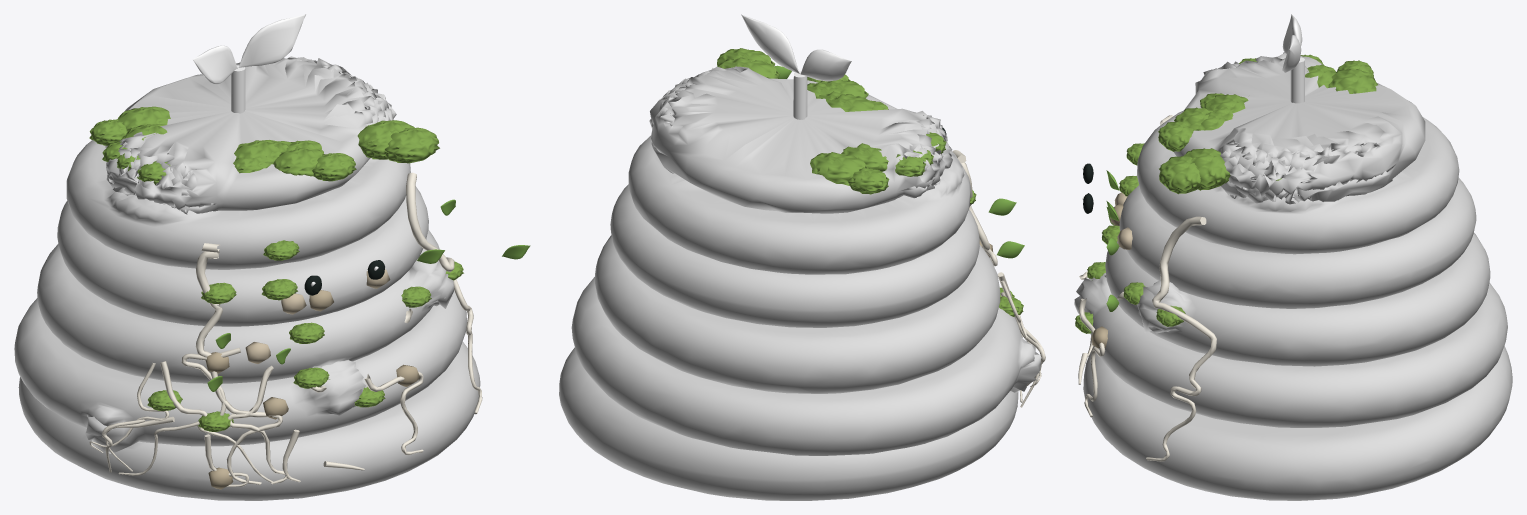
File: tsuchi.glb
The picture shows the model from 3 angles, left to right: view 1: azimuth 30°, elevation 25°; view 2: azimuth 150°, elevation 25°; view 3: azimuth 270°, elevation 25°; orthographic projection.
Visible parts, largest first — view 1: Cylinder.005, Cylinder.001, Cylinder, Cylinder.002, Cylinder.004, Cylinder.003, c.003, Sphere.015, c.011, Icosphere.013, Sphere.014, Icosphere.009 (+15 smaller); view 2: Cylinder.001, Cylinder.005, Cylinder.002, Cylinder, Cylinder.004, Cylinder.003, Sphere.015, Icosphere.020, Sphere.014, Icosphere.016, Icosphere, c.012 (+4 smaller); view 3: Cylinder, Cylinder.001, Cylinder.005, Cylinder.002, Cylinder.003, Cylinder.004, c.011, Icosphere.013, Icosphere.023, Icosphere.020, Icosphere.003, c.010 (+3 smaller).
Part boxes in pixels (x1,y1,x2,y2): Cylinder.005: (105,56,396,214); Cylinder.001: (14,290,466,453); Cylinder: (18,341,480,500); Cylinder.002: (37,229,454,383); Cylinder.004: (66,140,410,269); Cylinder.003: (57,186,428,326); c.003: (195,243,282,484); Sphere.015: (238,14,305,67); c.011: (406,172,482,414); Icosphere.013: (385,127,439,163); Sphere.014: (193,45,237,84); Icosphere.009: (273,147,323,176); Cylinder.001: (571,277,1041,455); Cylinder.005: (649,66,952,213); Cylinder.002: (595,235,1000,393); Cylinder: (559,347,1018,500); Cylinder.004: (628,135,970,274); Cylinder.003: (610,184,979,327); Sphere.015: (741,14,799,73); Icosphere.020: (810,152,867,185); Sphere.014: (800,49,851,81); Icosphere.016: (847,167,889,194); Icosphere: (841,143,888,171); c.012: (793,71,807,119); Cylinder: (1083,346,1512,500); Cylinder.001: (1074,273,1507,427); Cylinder.005: (1174,52,1425,204); Cylinder.002: (1104,232,1490,366); Cylinder.003: (1119,177,1476,308); Cylinder.004: (1137,110,1459,254); c.011: (1146,216,1216,461); Icosphere.013: (1159,156,1201,194); Icosphere.023: (1185,148,1230,190); Icosphere.020: (1328,69,1377,93); Icosphere.003: (1158,121,1193,151); c.010: (1078,292,1124,417).
Bounding box in the file's own units: 1.09 × 1.01 × 1.02.
